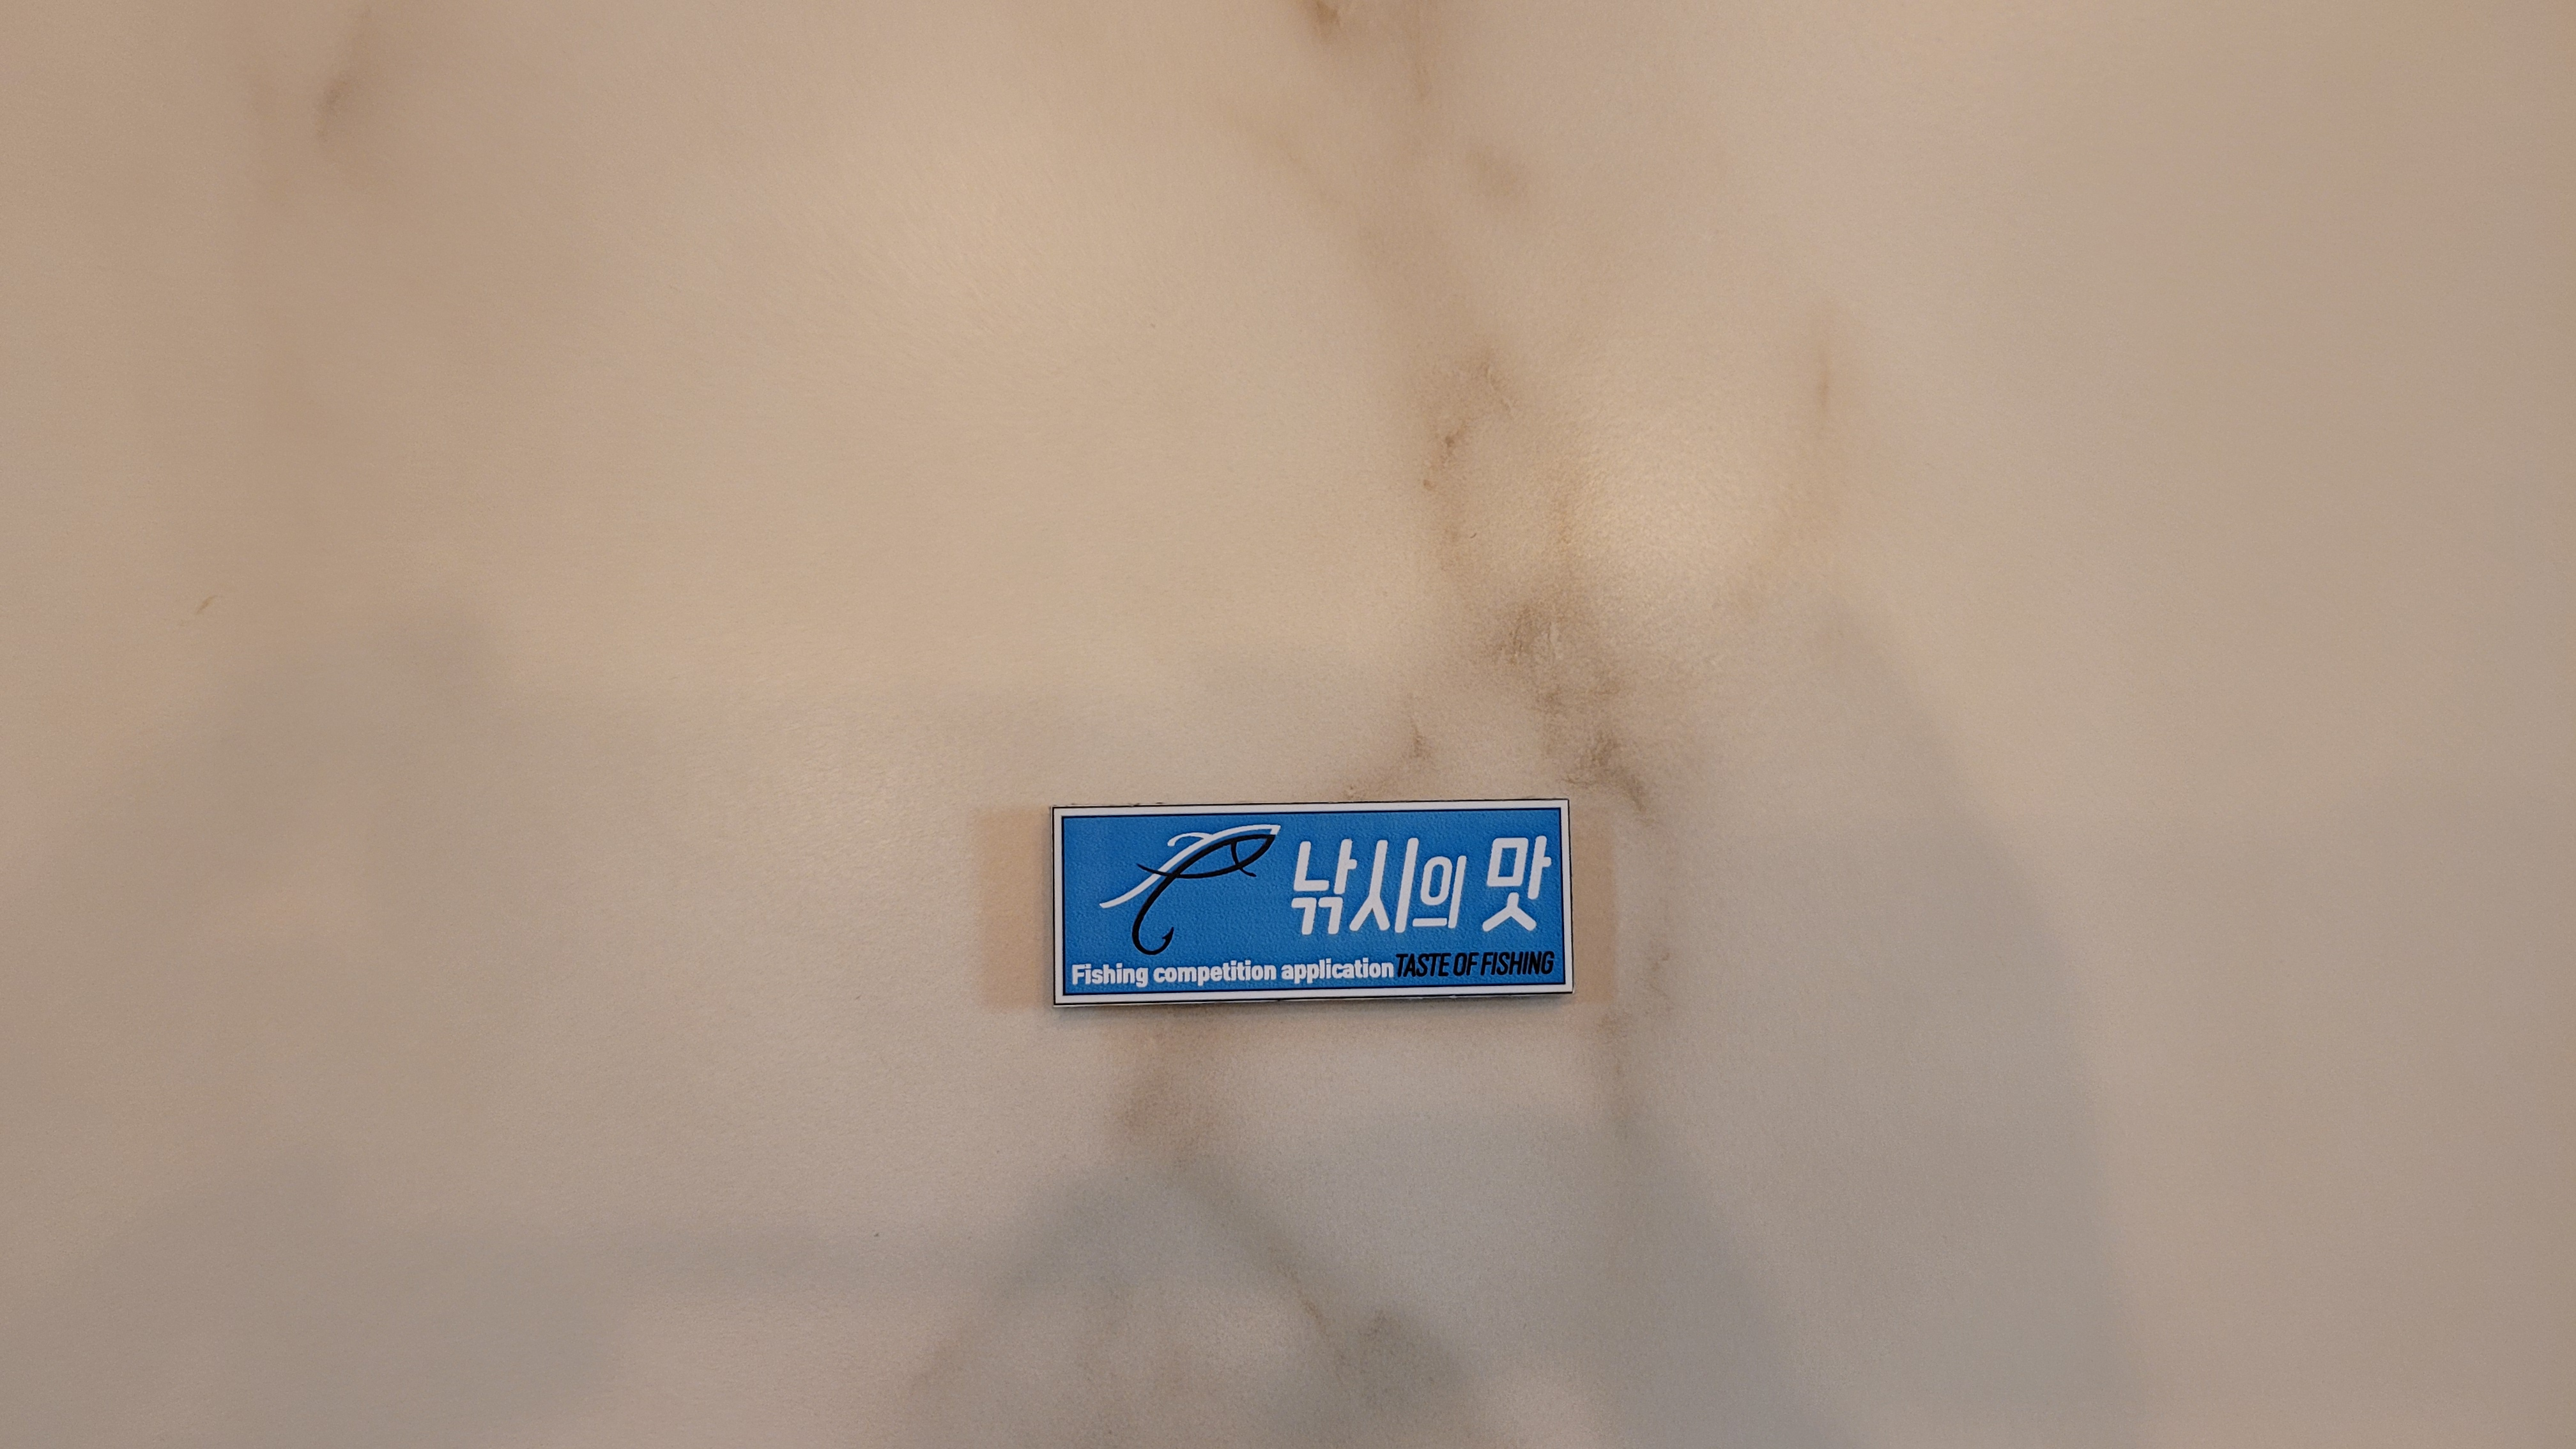tag: (1053, 810, 1571, 1000)
